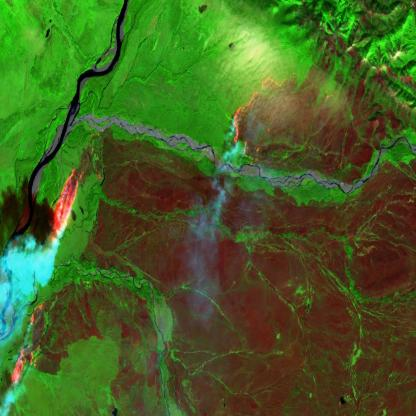fire: (225, 69, 294, 167), (38, 165, 93, 258), (5, 298, 52, 388)
